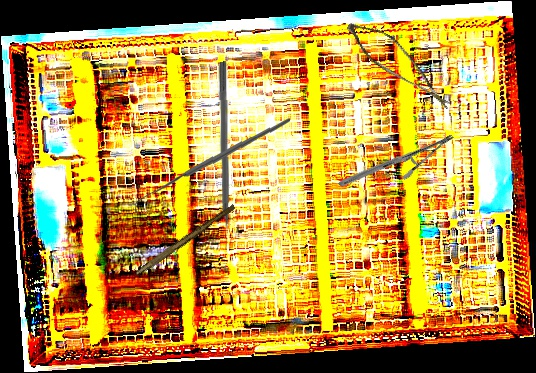Hook Surgical: (134, 111, 291, 219)
Micro Scissor: (335, 16, 467, 110)
Needle Holder: (337, 98, 455, 223)
Pusher: (216, 61, 231, 253)
Scalpel Handle: (134, 201, 237, 280)
